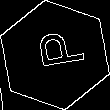P_W: (26, 33, 84, 77)
